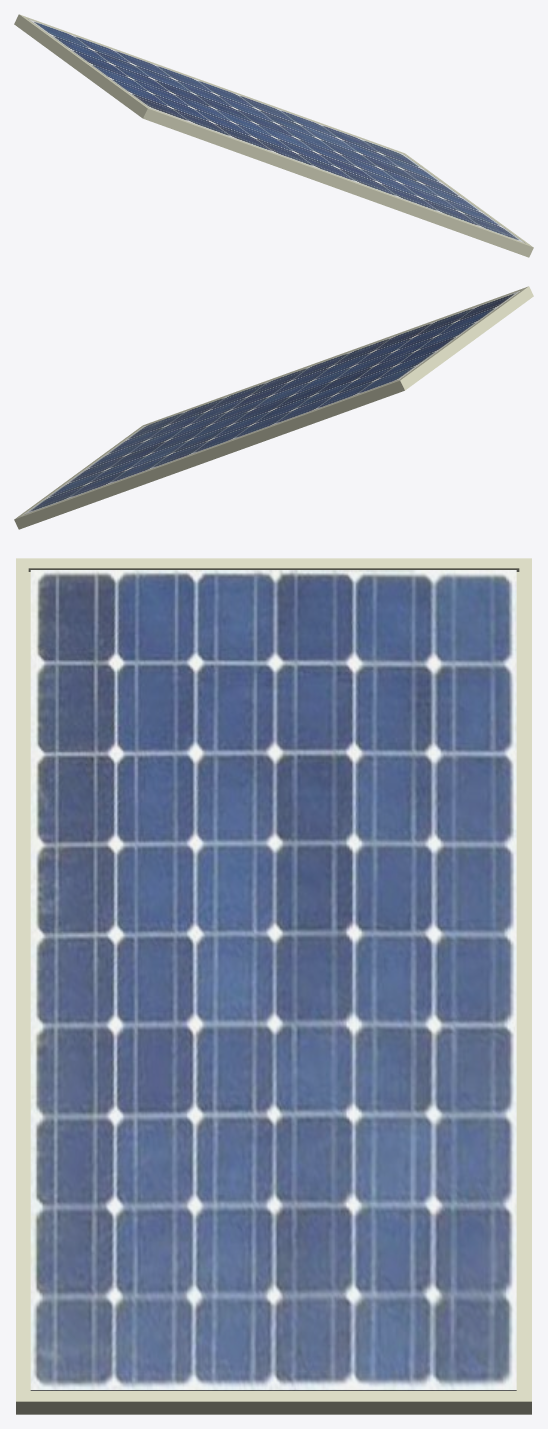
The model's file is GEPVc-170-MS.dae.
3 renders of one model, top to bottom at view 1: azimuth 30°, elevation 25°; view 2: azimuth 150°, elevation 25°; view 3: azimuth 270°, elevation 25°, orthographic. The views are drawn at different scales.
Visible parts, largest first — view 1: Panel, Structure; view 2: Panel, Structure; view 3: Panel, Structure.
Part boxes in pixels (<box>): Panel: <box>28,19,524,242</box>; Structure: <box>14,14,533,257</box>; Panel: <box>23,291,519,514</box>; Structure: <box>14,286,533,529</box>; Panel: <box>30,570,516,1390</box>; Structure: <box>16,558,531,1414</box>.
Size of the model in its own units: 54.81 by 31.3 by 32.44.
Materials: 4 (3 with a texture image).
